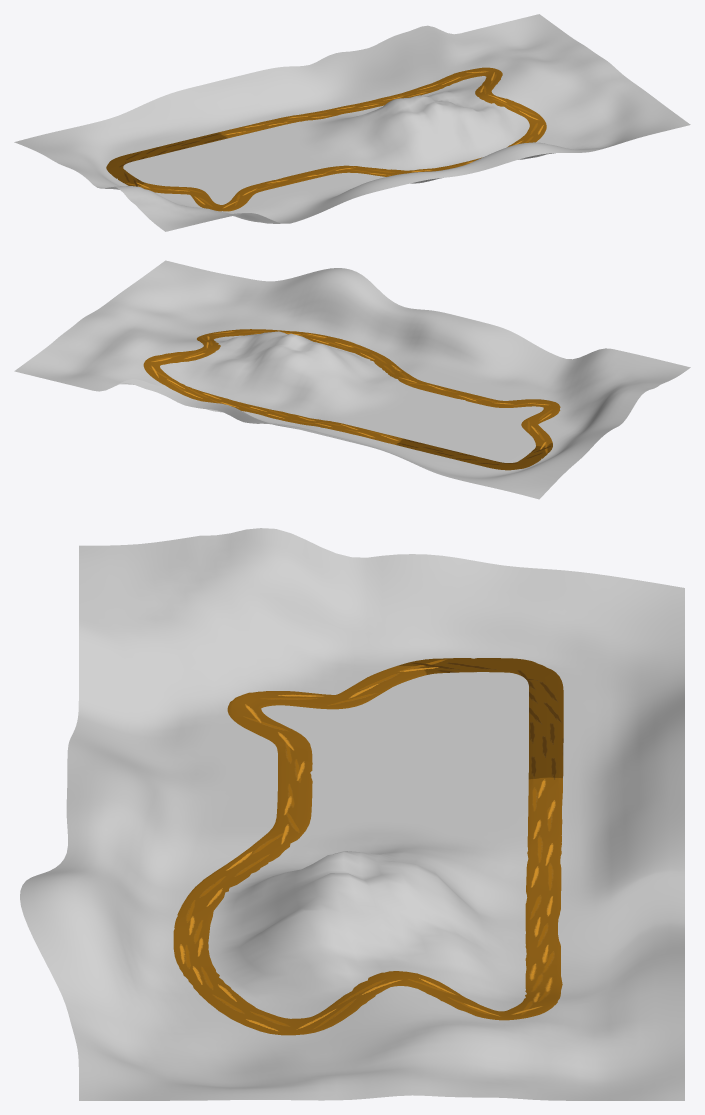
Rendered from Terrain_Texture_Complte.fbx.
3 renders of one model, top to bottom at view 1: azimuth 30°, elevation 25°; view 2: azimuth 150°, elevation 25°; view 3: azimuth 270°, elevation 25°, orthographic. The views are drawn at different scales.
Parts seen in each view (by area): view 1: terrain_fortexture1:polySurface1, terrain_fortexture:polySurface1; view 2: terrain_fortexture1:polySurface1, terrain_fortexture:polySurface1; view 3: terrain_fortexture1:polySurface1, terrain_fortexture:polySurface1.
Part boxes in pixels (x1,y1,x2,y2): terrain_fortexture1:polySurface1: (14, 14, 690, 231); terrain_fortexture:polySurface1: (106, 67, 546, 211); terrain_fortexture1:polySurface1: (14, 260, 690, 499); terrain_fortexture:polySurface1: (143, 329, 560, 470); terrain_fortexture1:polySurface1: (20, 528, 684, 1100); terrain_fortexture:polySurface1: (173, 658, 563, 1035).
Size of the model in its own units: 357 by 30.26 by 196.
